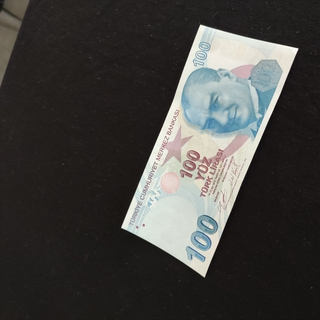100TLFront: (120, 23, 300, 278)
